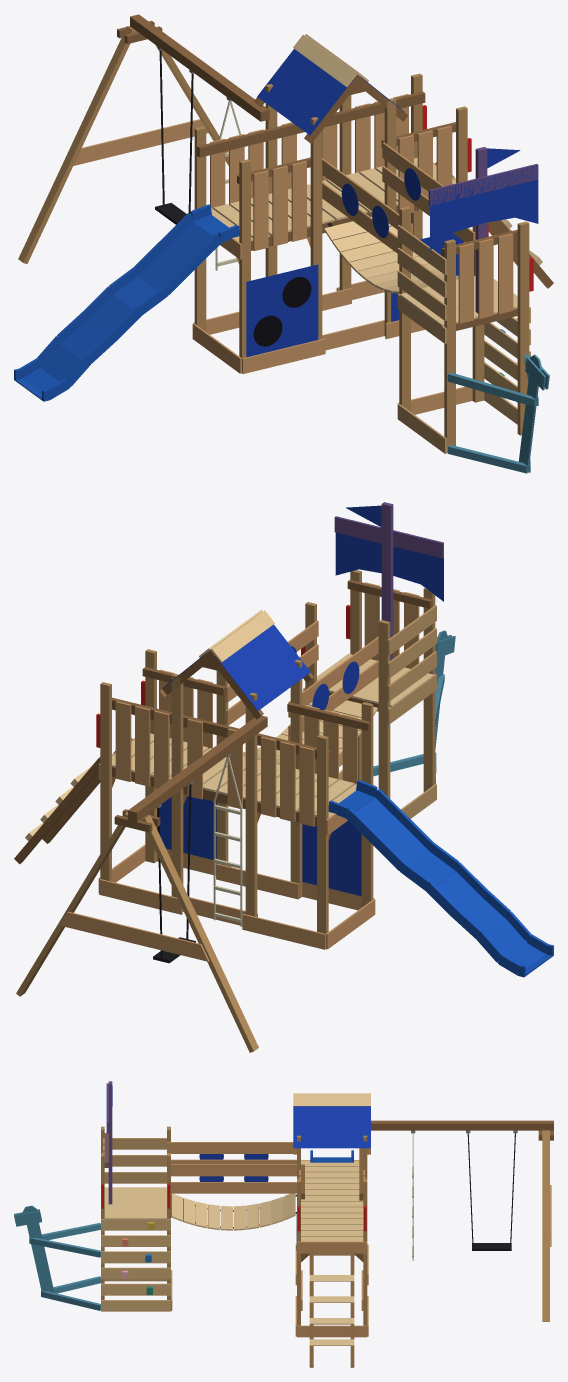
File: speeltoestel.glb
The picture shows the model from 3 angles, top to bottom: view 1: azimuth 30°, elevation 25°; view 2: azimuth 150°, elevation 25°; view 3: azimuth 270°, elevation 25°; orthographic projection. The views are drawn at different scales.
Visible parts, largest first — view 1: G01_slide, A47_M3, A45_L, F34_H2, D42_L1, E24_P, A45_AU, A47_P3, A47_P1, A45_VP2, A45_VP1, D42_D (+53 smaller); view 2: G01_slide, F34_H2, A47_M3, A45_L, D42_L1, E24_P, A45_AP2, D42_D, A45_K, A45_AP3, A45_AP1, A45_AP4 (+42 smaller); view 3: F34_H1, E24_P, B07_R21, D42_L2, B07_R11, B07_R22, F34_C1, A45_E4, A47_W3, A47_W4, A47_W2, A45_E2 (+33 smaller).
Part boxes in pixels (<box>): G01_slide: <box>14,204,239,401</box>; A47_M3: <box>430,165,538,249</box>; A45_L: <box>246,264,318,357</box>; F34_H2: <box>257,49,352,135</box>; D42_L1: <box>18,26,135,263</box>; E24_P: <box>130,14,269,121</box>; A45_AU: <box>197,91,425,157</box>; A47_P3: <box>517,221,529,435</box>; A47_P1: <box>444,239,455,453</box>; A45_VP2: <box>310,117,322,339</box>; A45_VP1: <box>239,159,250,358</box>; D42_D: <box>73,119,208,165</box>; G01_slide: <box>328,780,553,977</box>; F34_H2: <box>215,624,310,710</box>; A47_M3: <box>335,516,443,601</box>; A45_L: <box>302,821,361,895</box>; D42_L1: <box>141,814,258,1052</box>; E24_P: <box>127,715,267,821</box>; A45_AP2: <box>245,692,257,916</box>; D42_D: <box>59,911,209,961</box>; A45_K: <box>157,796,216,859</box>; A45_AP3: <box>171,673,183,911</box>; A45_AP1: <box>317,735,328,933</box>; A45_AP4: <box>100,682,111,881</box>; F34_H1: <box>293,1106,370,1148</box>; E24_P: <box>371,1120,553,1130</box>; B07_R21: <box>171,1164,296,1176</box>; D42_L2: <box>542,1130,549,1321</box>; B07_R11: <box>167,1142,293,1153</box>; B07_R22: <box>171,1182,296,1193</box>; F34_C1: <box>293,1094,370,1106</box>; A45_E4: <box>297,1241,367,1253</box>; A47_W3: <box>101,1267,170,1279</box>; A47_W4: <box>101,1251,170,1263</box>; A47_W2: <box>101,1283,170,1295</box>; A45_E2: <box>297,1325,367,1337</box>.
Bounding box in the file's own units: 4.95 × 2.7 × 6.17.
